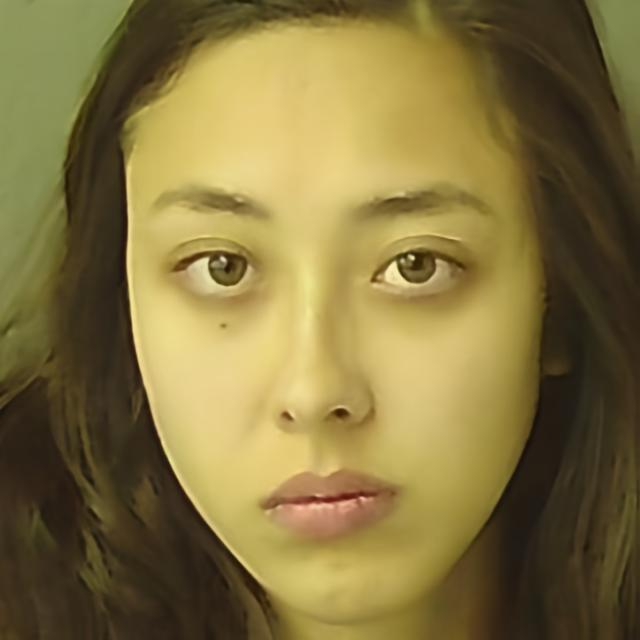neutral: (122, 12, 544, 622)
